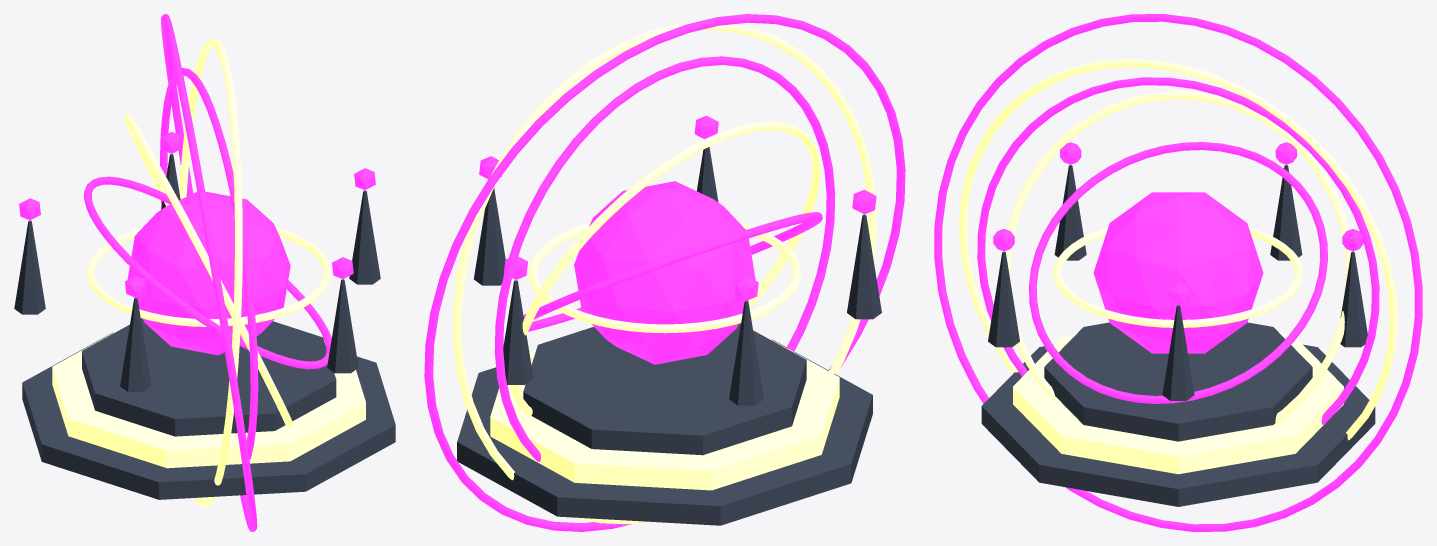
The model's file is gpu-blender-v26.glb.
The picture shows the model from 3 angles, left to right: view 1: azimuth 30°, elevation 25°; view 2: azimuth 150°, elevation 25°; view 3: azimuth 270°, elevation 25°; orthographic projection. The views are drawn at different scales.
Visible parts, largest first — view 1: Cylinder.002, Cylinder, SovereignCore_city-desk, Cylinder.001, Torus.005, Torus.004, Torus.001, Torus.003, Torus, Torus.002, Cone.004, Cone.002 (+2 smaller); view 2: Cylinder.002, SovereignCore_city-desk, Cylinder, Cylinder.001, Torus.005, Torus.003, Torus.004, Torus.002, Torus, Torus.001, Cone.003, Cone.002 (+3 smaller); view 3: SovereignCore_city-desk, Cylinder.002, Cylinder, Cylinder.001, Torus.005, Torus.004, Torus.001, Torus.003, Torus.002, Torus, Cone.004, Cone (+3 smaller).
Part boxes in pixels (x1,y1,x2,y2): Cylinder.002: (82, 318, 336, 436); Cylinder: (22, 332, 395, 499); SovereignCore_city-desk: (127, 191, 290, 355); Cylinder.001: (52, 325, 365, 468); Torus.005: (161, 14, 257, 531); Torus.004: (179, 38, 242, 507); Torus.001: (84, 176, 331, 369); Torus.003: (160, 68, 258, 459); Torus: (86, 227, 331, 326); Torus.002: (124, 114, 293, 426); Cone.004: (327, 279, 358, 373); Cone.002: (14, 220, 45, 314); Cylinder.002: (523, 323, 806, 455); SovereignCore_city-desk: (574, 181, 755, 364); Cylinder: (457, 339, 872, 525); Cylinder.001: (490, 330, 839, 490); Torus.005: (424, 14, 905, 531); Torus.003: (494, 56, 835, 461); Torus.004: (453, 22, 876, 524); Torus.002: (510, 121, 820, 416); Torus: (528, 222, 801, 333); Torus.001: (523, 212, 822, 331); Cone.003: (847, 214, 881, 319); Cone.002: (729, 301, 763, 405); SovereignCore_city-desk: (1093, 192, 1263, 353); Cylinder.002: (1044, 322, 1312, 441); Cylinder: (981, 344, 1375, 506); Cylinder.001: (1013, 334, 1343, 474); Torus.005: (934, 14, 1422, 531); Torus.004: (959, 59, 1397, 440); Torus.001: (1029, 142, 1327, 403); Torus.003: (977, 77, 1379, 424); Torus.002: (1004, 91, 1352, 423); Torus: (1053, 227, 1303, 327); Cone.004: (988, 251, 1019, 347); Cone: (1162, 305, 1194, 400).
Size of the model in its own units: 4.41 by 5.93 by 5.46.
